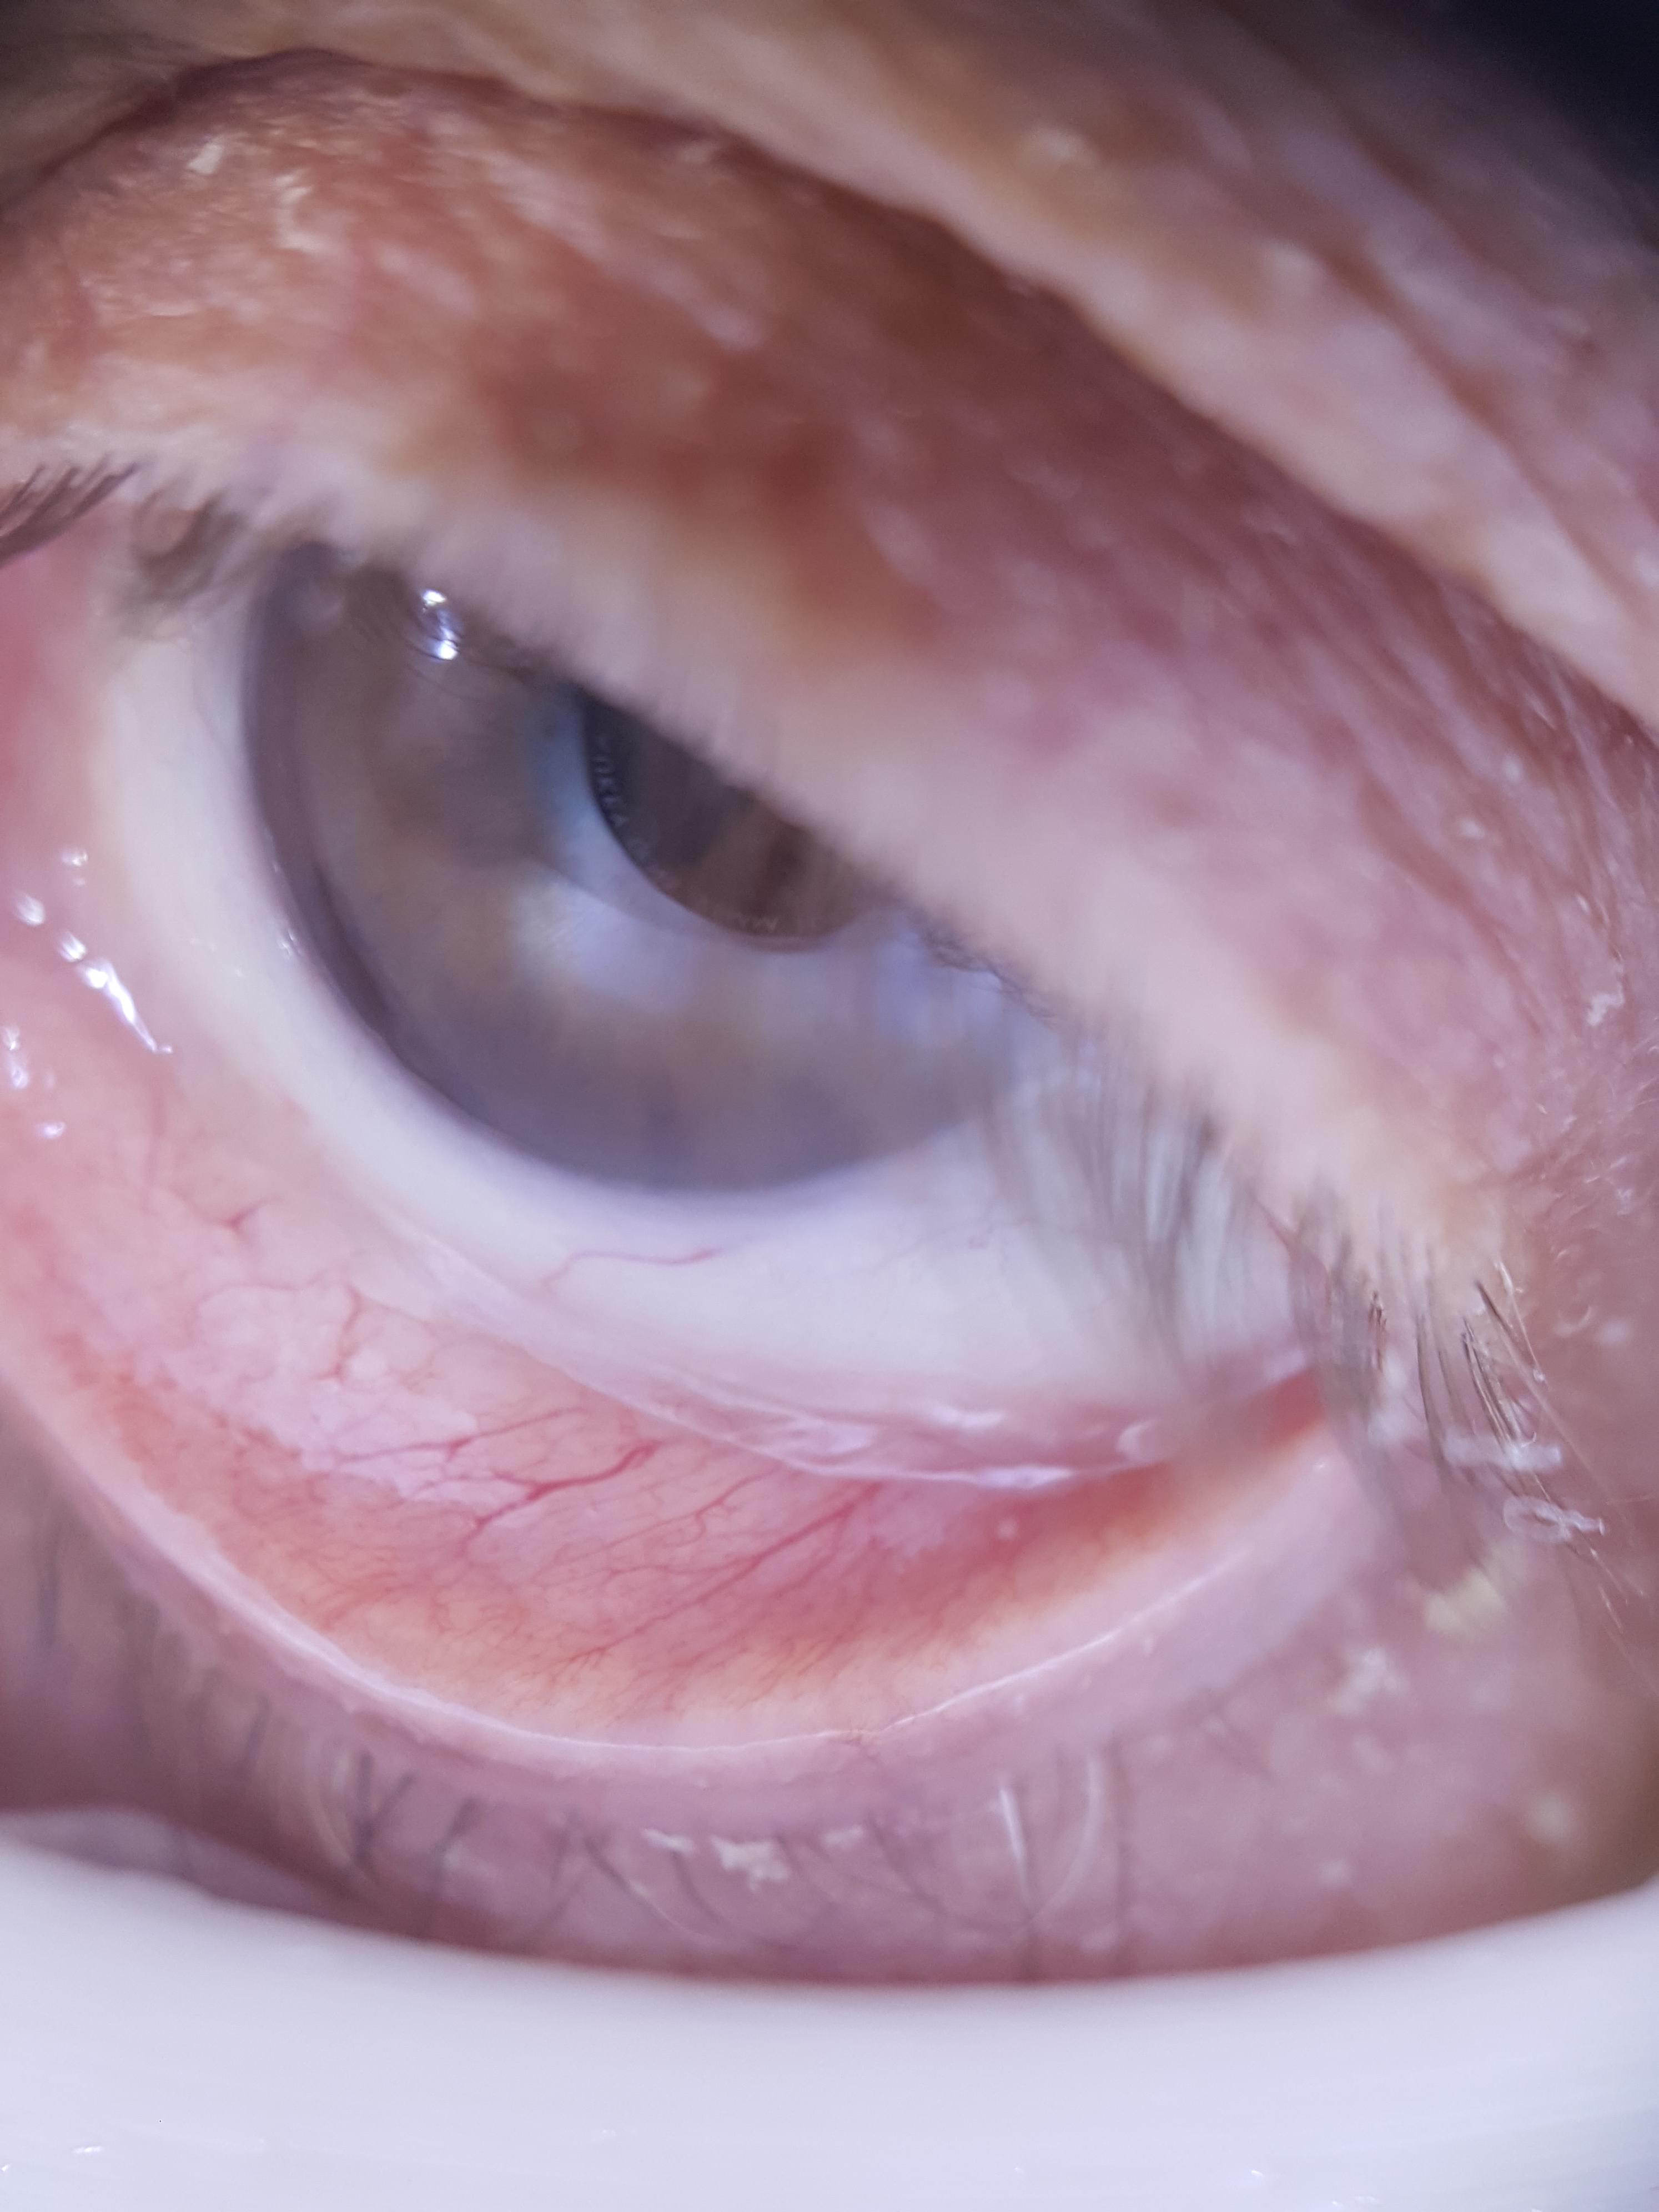forniceal: (0, 921, 1136, 1604)
forniceal_palpebral: (9, 921, 1152, 1705)
palpebral: (5, 1205, 1143, 1693)
